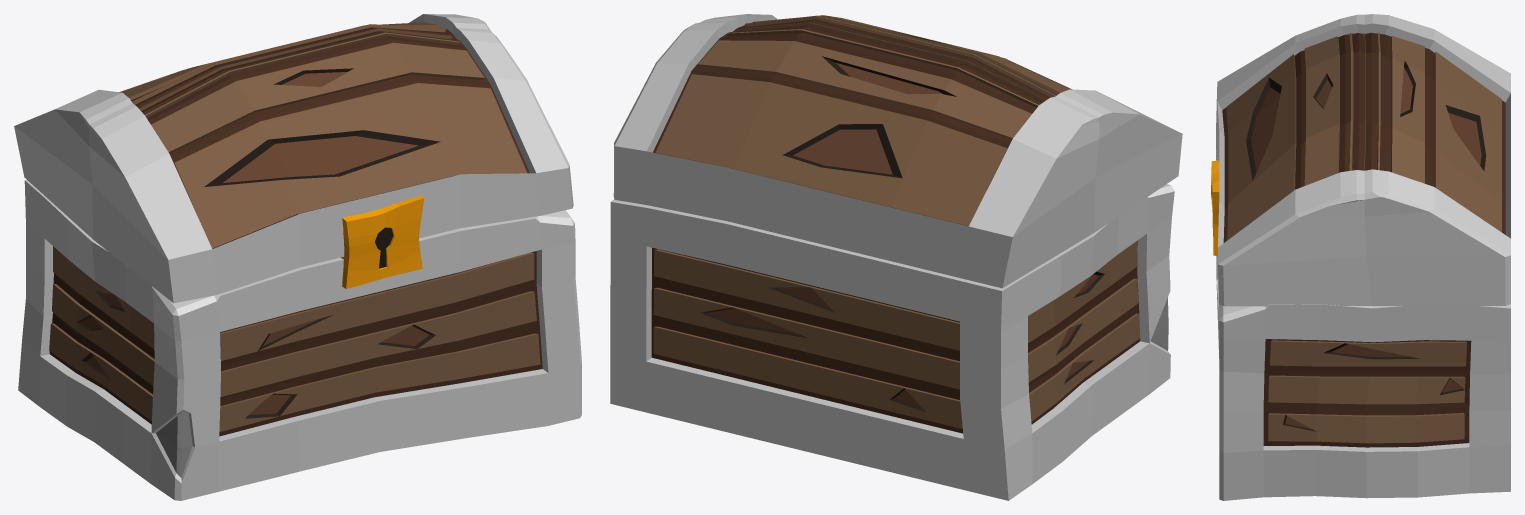
File: treasureChest.glb
3 views of the same model, side by side, from view 1: azimuth 30°, elevation 25°; view 2: azimuth 150°, elevation 25°; view 3: azimuth 270°, elevation 25° (orthographic). The views are drawn at different scales.
Visible parts, largest first — view 1: Object_4; view 2: Object_4; view 3: Object_4.
Boxes of the visible parts, x1,y1,x2,y2 form: Object_4: (14,14,581,500); Object_4: (610,14,1182,500); Object_4: (1211,14,1510,500).
Size of the model in its own units: 2.14 by 1.73 by 1.44.
Materials: 1 (1 with a texture image).
